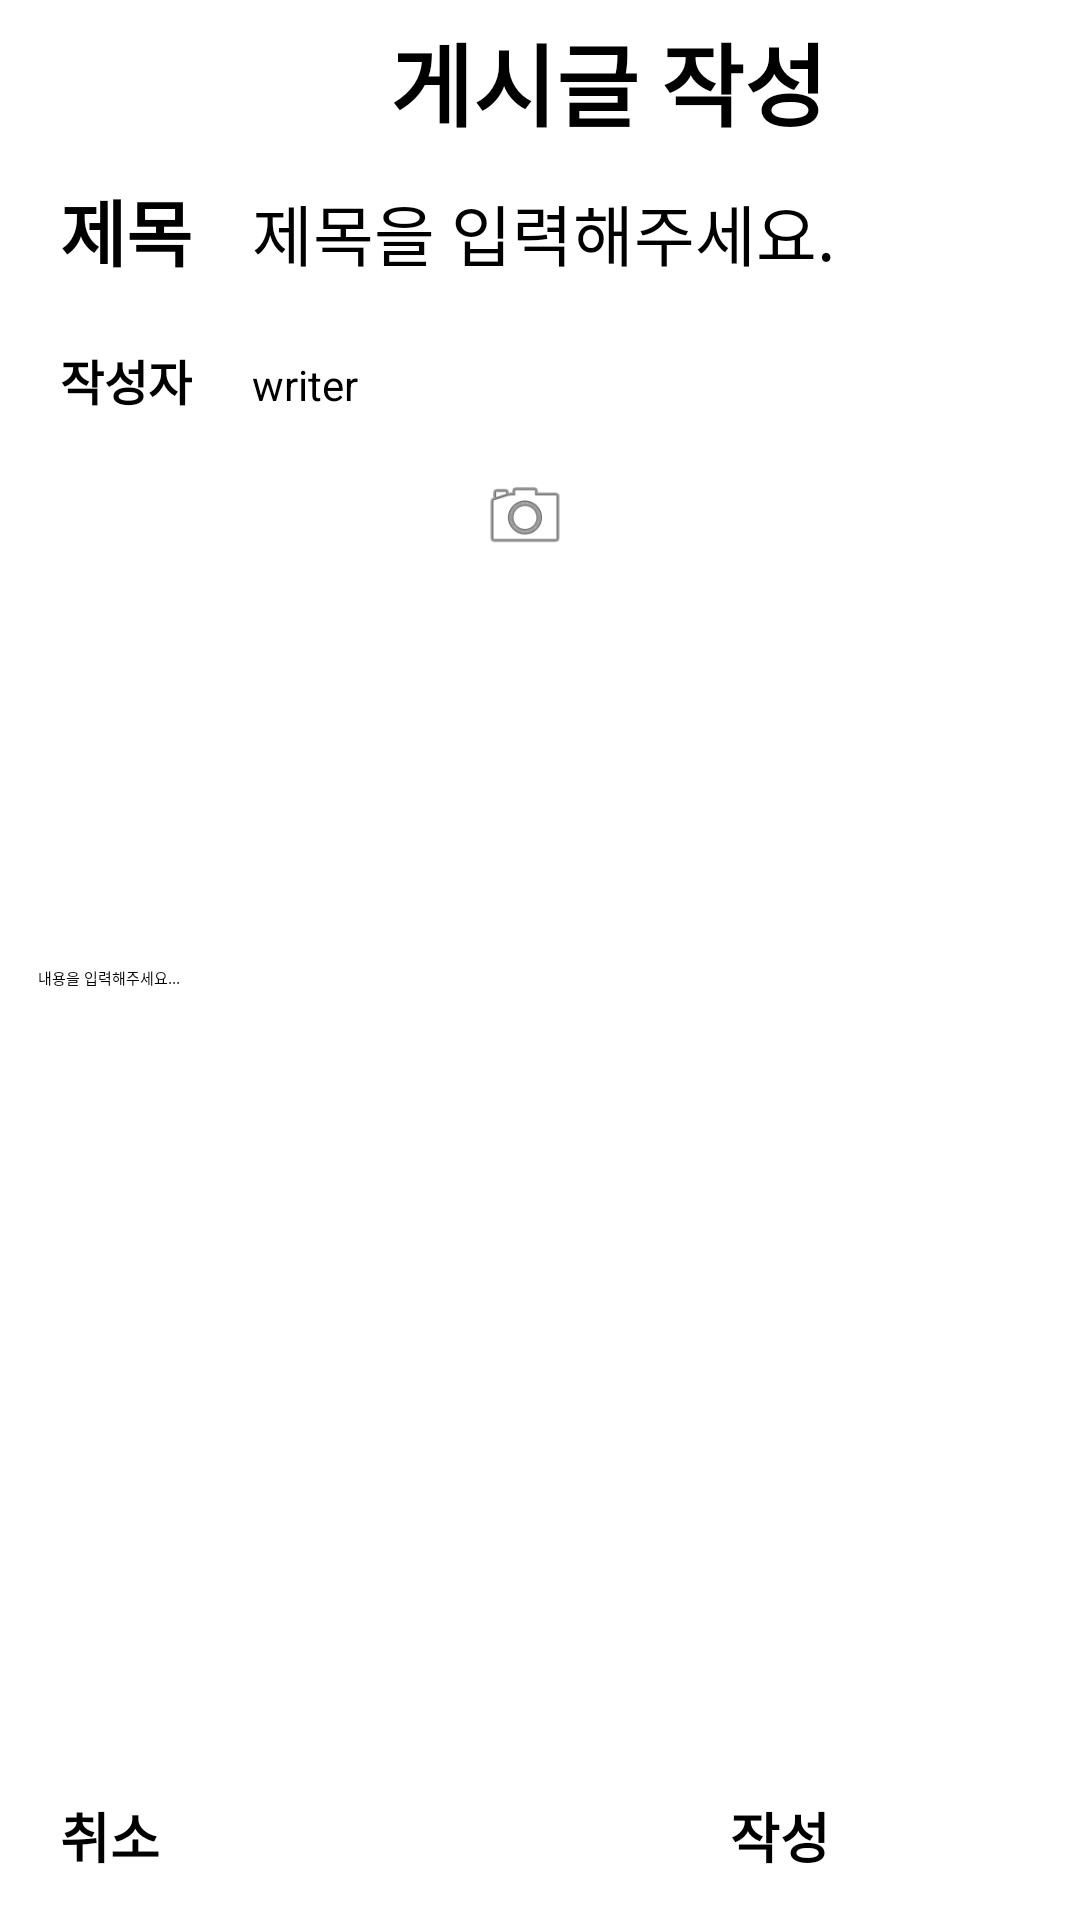

Icons on this 1080px×1920px Android screen, each with the point to tap as (x=x, y=y):
camera: (x=525, y=514)
